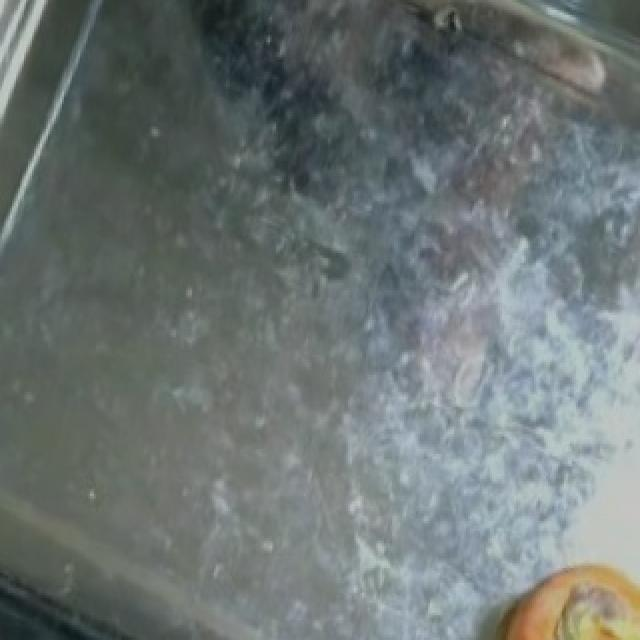Fruit: (474, 545, 640, 640)
